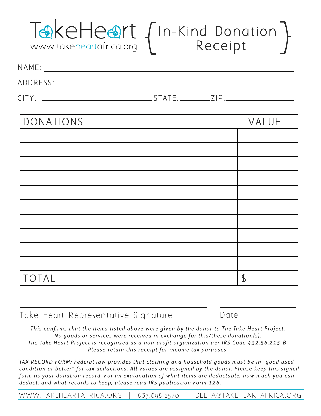textbox: (15, 210, 242, 231), (16, 196, 242, 217), (18, 153, 242, 174), (16, 253, 240, 274), (16, 183, 243, 203), (16, 168, 242, 188), (17, 140, 241, 160), (17, 240, 241, 260), (17, 225, 240, 245), (18, 126, 242, 145), (235, 252, 303, 275), (235, 225, 304, 246), (235, 196, 303, 217), (235, 168, 302, 189), (235, 240, 303, 260), (235, 268, 301, 288), (236, 139, 301, 159), (236, 183, 301, 203), (235, 154, 301, 173), (236, 125, 299, 144), (235, 212, 301, 230)
textline: (41, 57, 298, 75), (17, 290, 210, 310), (56, 75, 300, 89), (219, 290, 299, 311), (38, 90, 154, 103), (223, 91, 298, 102), (178, 91, 211, 102)
